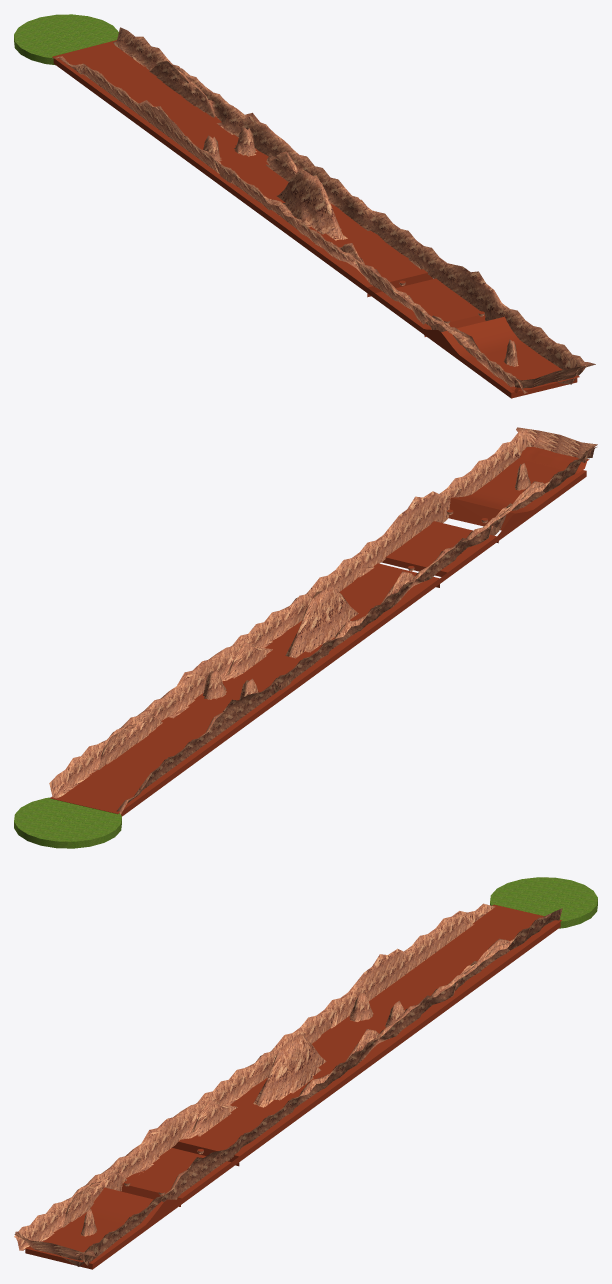
Rendered from MapaMoto.fbx.
The picture shows the model from 3 angles, top to bottom: view 1: azimuth 30°, elevation 25°; view 2: azimuth 150°, elevation 25°; view 3: azimuth 330°, elevation 25°; orthographic projection. The views are drawn at different scales.
Parts seen in each view (by area): view 1: elevacionesMontañas, Box001, Cylinder001, Plane003; view 2: elevacionesMontañas, Box001, Cylinder001, Plane003, terreno1; view 3: elevacionesMontañas, Box001, Cylinder001, Plane003.
Boxes of the visible parts, box(x1,y1,x2,y2) form: elevacionesMontañas: box(53, 27, 587, 393); Box001: box(52, 40, 577, 398); Cylinder001: box(14, 14, 118, 65); Plane003: box(513, 362, 595, 387); elevacionesMontañas: box(49, 430, 596, 814); Box001: box(50, 458, 586, 816); Cylinder001: box(14, 797, 121, 848); Plane003: box(516, 427, 597, 462); terreno1: box(518, 447, 589, 473); elevacionesMontañas: box(14, 903, 562, 1265); Box001: box(25, 904, 561, 1269); Cylinder001: box(490, 877, 597, 928); Plane003: box(14, 1231, 95, 1266).
Size of the model in its own units: 357 by 193 by 3440.
